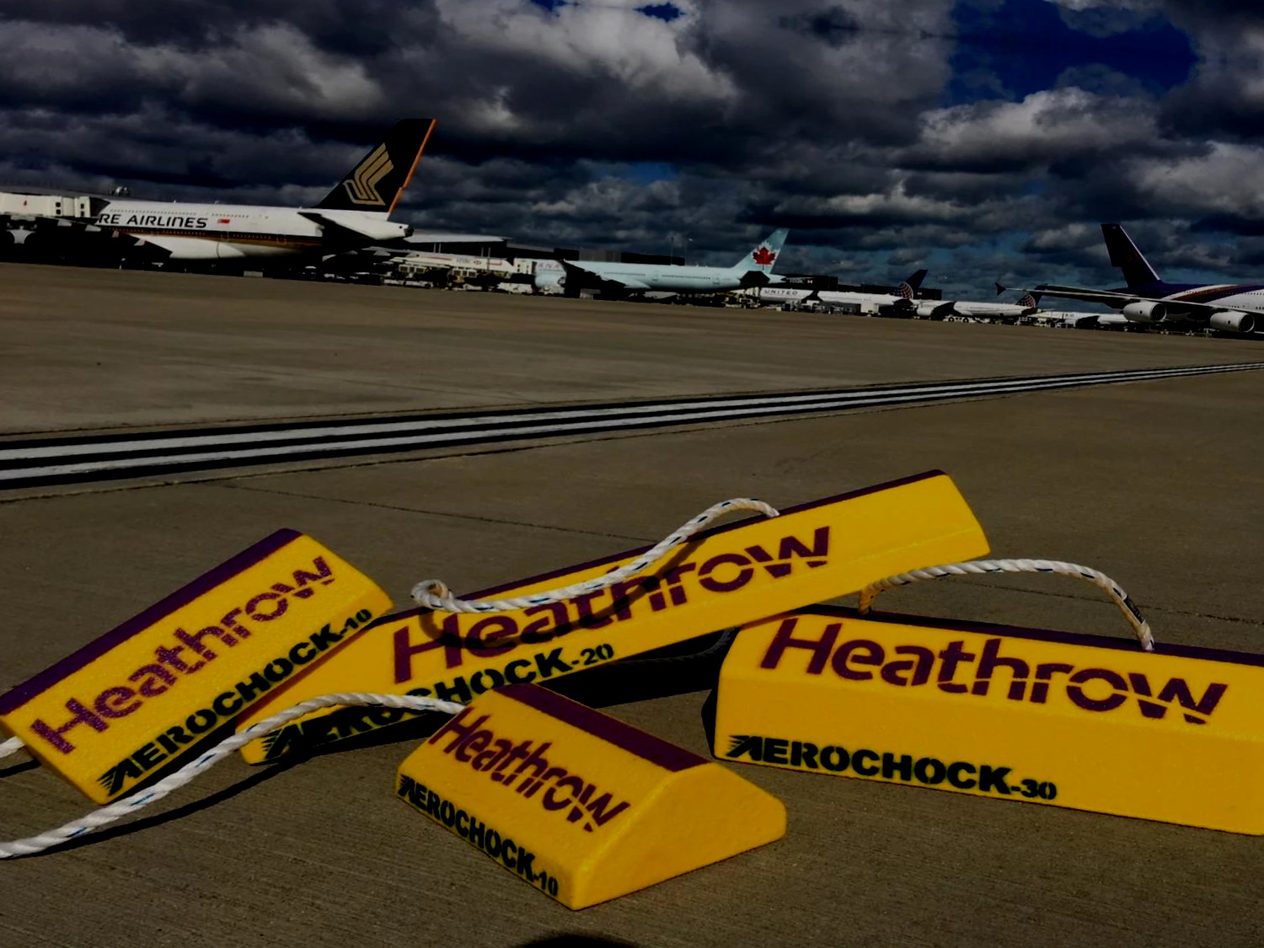chock: (209, 397, 1007, 846), (700, 551, 1264, 895), (0, 488, 405, 846), (377, 648, 802, 948)
